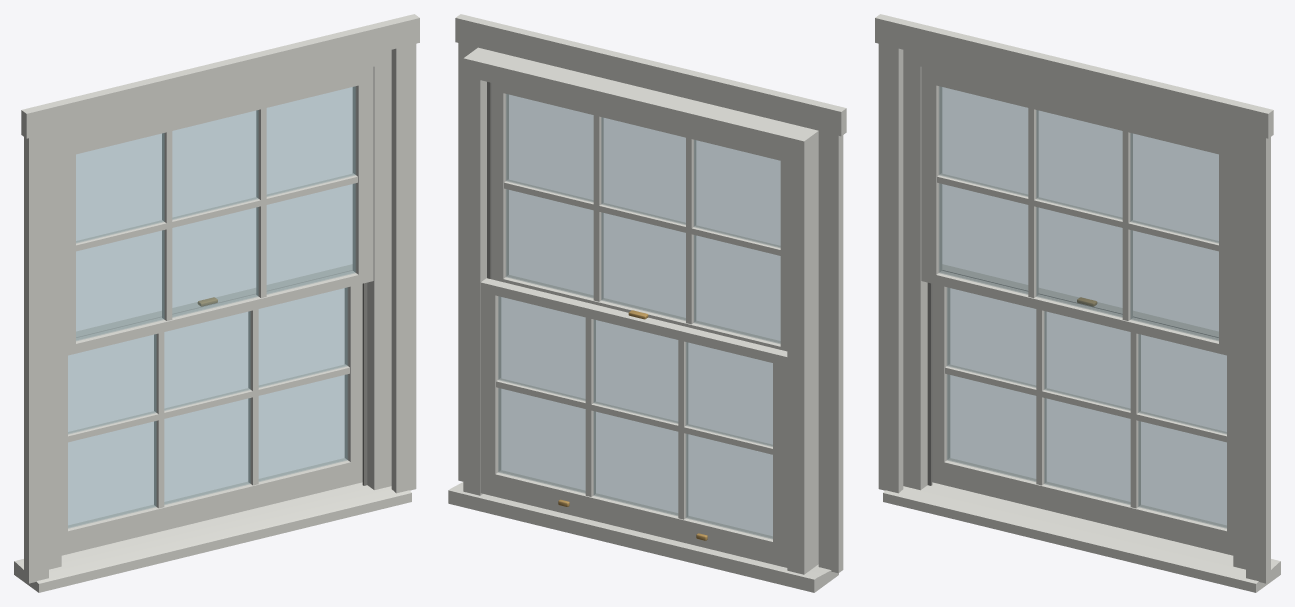
File: double-hung-6over6-cc0.glb
3 views of the same model, side by side, from view 1: azimuth 30°, elevation 25°; view 2: azimuth 150°, elevation 25°; view 3: azimuth 330°, elevation 25° (orthographic).
Visible parts, largest first — view 1: Double-hung window - Frame, sashes and casing, white painted, Double-hung window - Glazing, alpha-blended clear glass, Double-hung window - Parting stops and weatherstrip, grey; view 2: Double-hung window - Frame, sashes and casing, white painted, Double-hung window - Glazing, alpha-blended clear glass, Double-hung window - Parting stops and weatherstrip, grey; view 3: Double-hung window - Frame, sashes and casing, white painted, Double-hung window - Glazing, alpha-blended clear glass, Double-hung window - Parting stops and weatherstrip, grey.
Part boxes in pixels (box(x1,y1,x2,y2)): Double-hung window - Frame, sashes and casing, white painted: box(14, 14, 419, 592); Double-hung window - Glazing, alpha-blended clear glass: box(68, 86, 355, 528); Double-hung window - Parting stops and weatherstrip, grey: box(362, 282, 367, 485); Double-hung window - Frame, sashes and casing, white painted: box(448, 14, 846, 592); Double-hung window - Glazing, alpha-blended clear glass: box(498, 94, 780, 539); Double-hung window - Parting stops and weatherstrip, grey: box(487, 82, 491, 279); Double-hung window - Frame, sashes and casing, white painted: box(875, 14, 1280, 592); Double-hung window - Glazing, alpha-blended clear glass: box(939, 86, 1226, 528); Double-hung window - Parting stops and weatherstrip, grey: box(927, 282, 932, 485).
Size of the model in its own units: 1.37 by 1.59 by 0.15.
4 materials, 4 textured.
